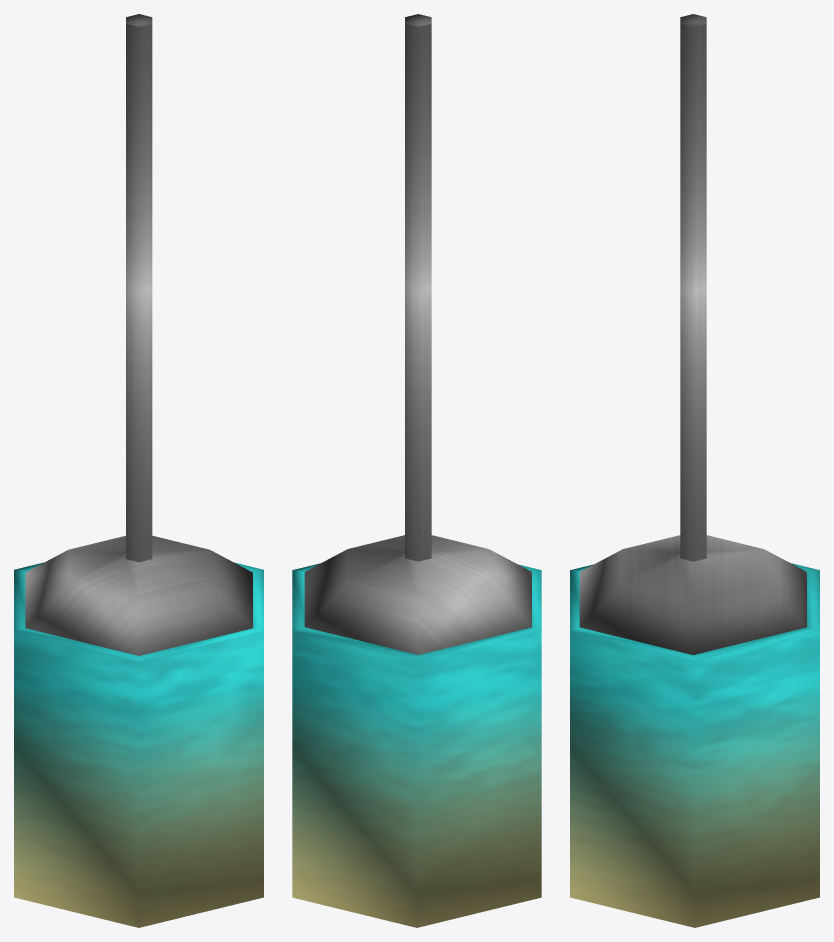
File: Pendant_Light_B.FBX
3 views of the same model, side by side, from view 1: azimuth 30°, elevation 25°; view 2: azimuth 150°, elevation 25°; view 3: azimuth 270°, elevation 25° (orthographic).
Parts seen in each view (by area): view 1: Pendant light; view 2: Pendant light; view 3: Pendant light.
Part boxes in pixels (left/top/right/bottom): Pendant light: left=14, top=14, right=263, bottom=927; Pendant light: left=292, top=14, right=541, bottom=927; Pendant light: left=570, top=14, right=819, bottom=927.
Size of the model in its own units: 75.21 by 244 by 65.13.
